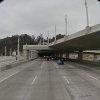Bridge: (33, 20, 100, 57)
